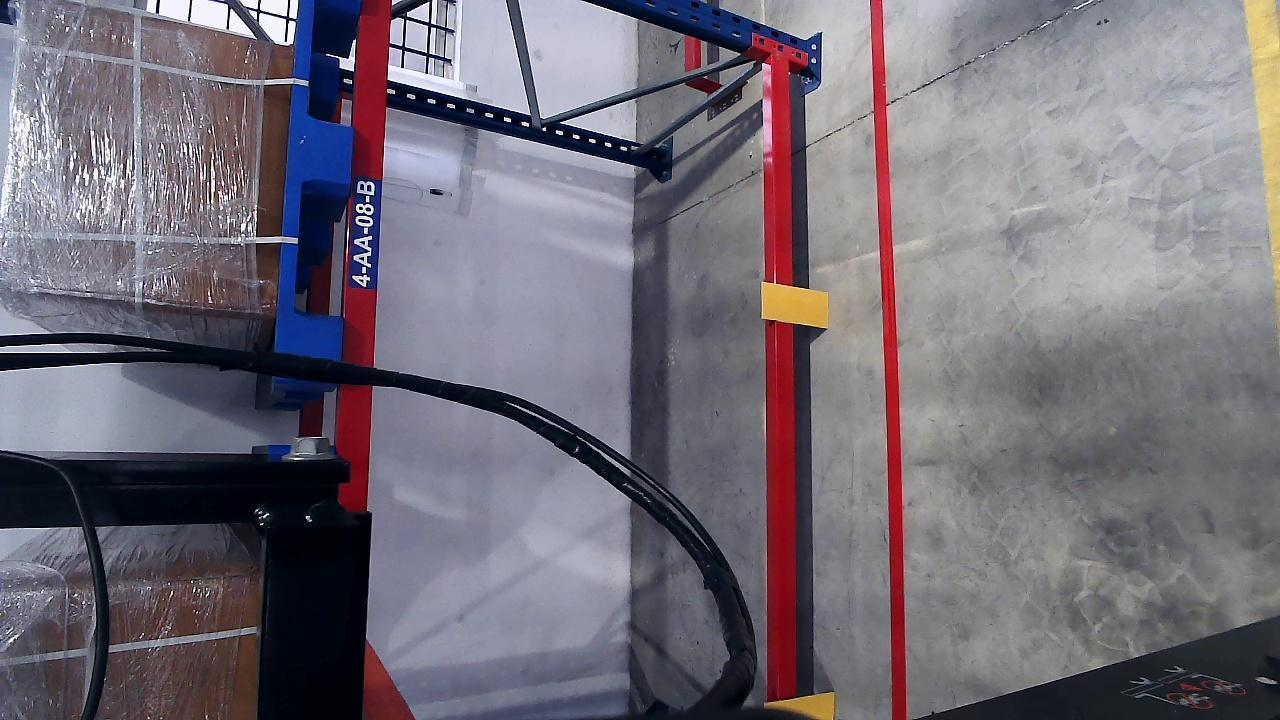red_line: (868, 4, 907, 718)
yellow_line: (1246, 1, 1279, 345)
